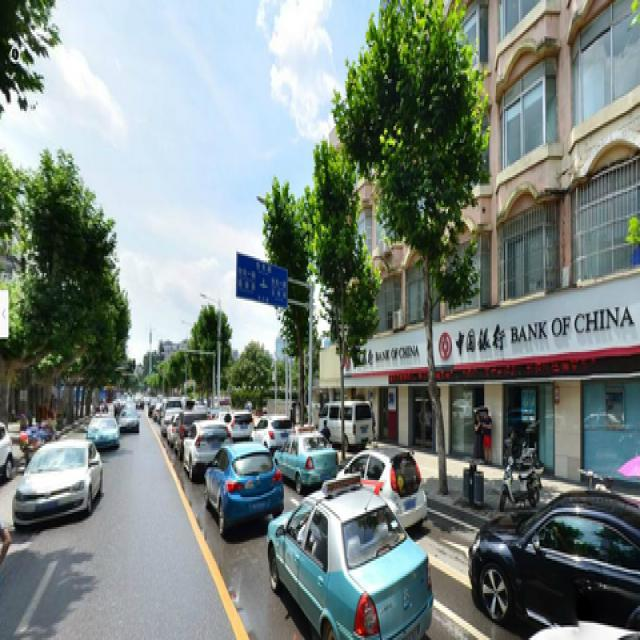meta: (352, 13, 485, 486)
